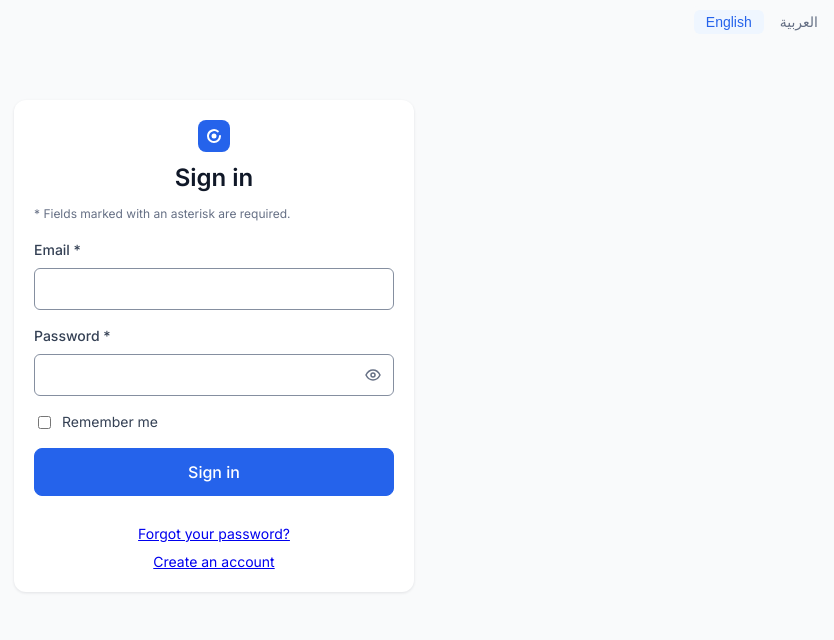
Test: SignInPage › maps INVALID_CREDENTIALS to the login-specific message
Step 1. Type "a@b.com" into the field labelled "Email *" → (214, 289), box [47,269,381,309]
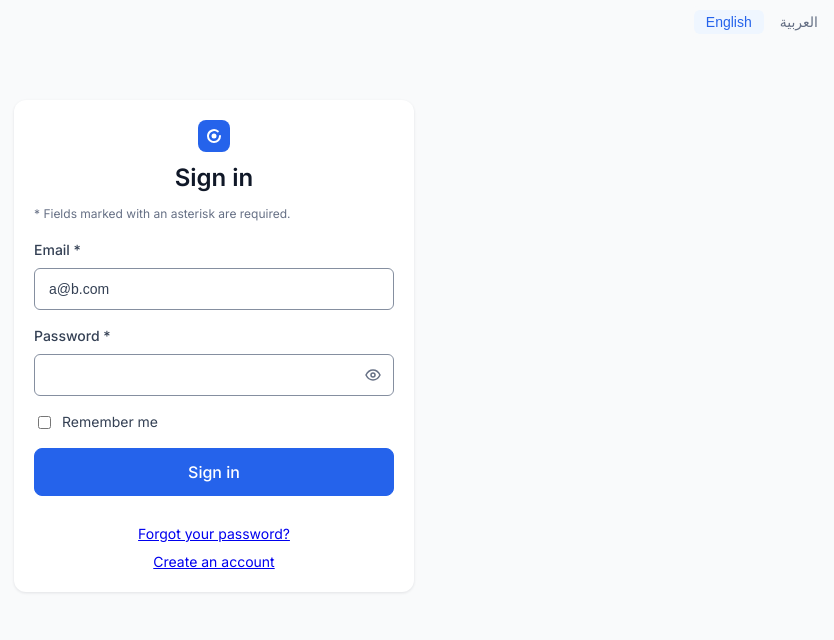
Step 2. Type "Passw0rd!" into the password field labelled "Password *" → (202, 375), box [47,355,357,395]
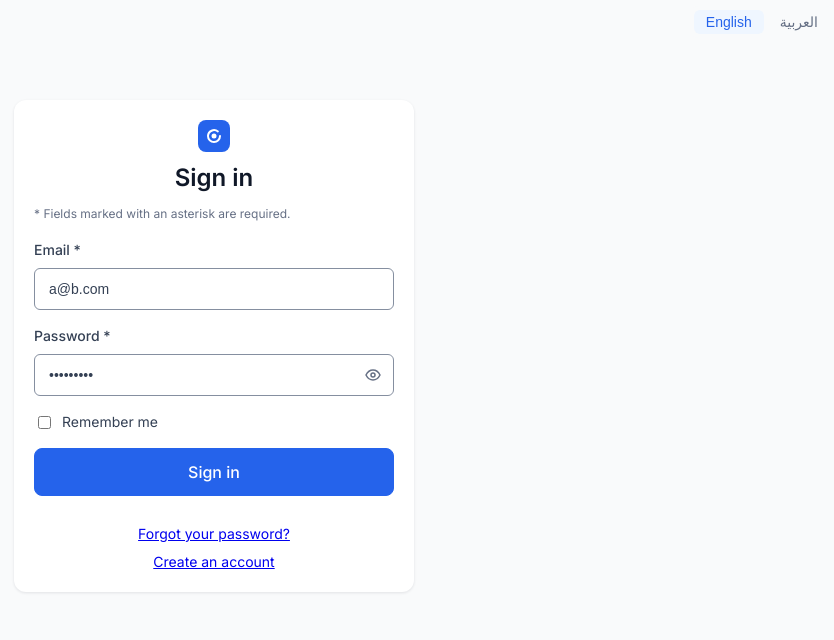
Step 3. Click the button "Sign in" → (214, 472), box [34,448,394,496]
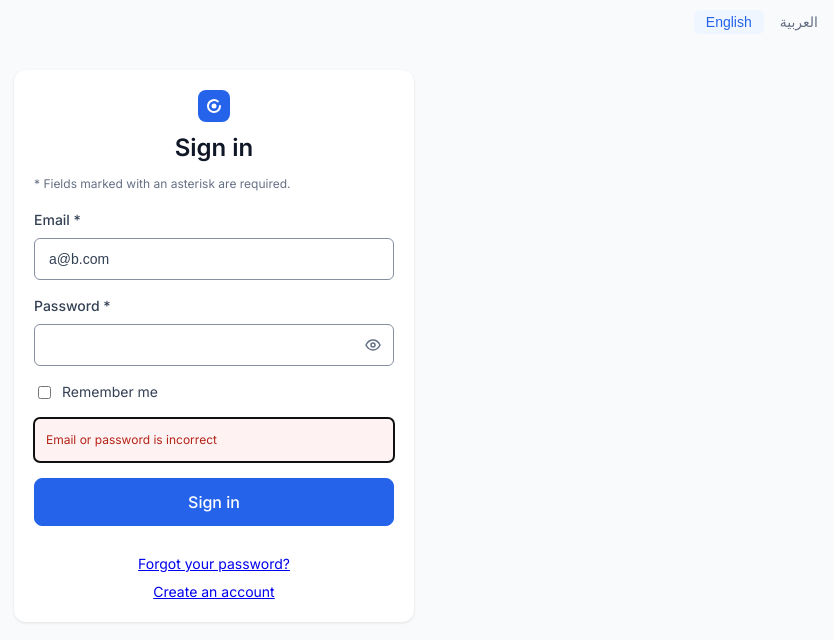
Expected: the text "Email or password is incorrect" is shown, [34,418,394,462]
